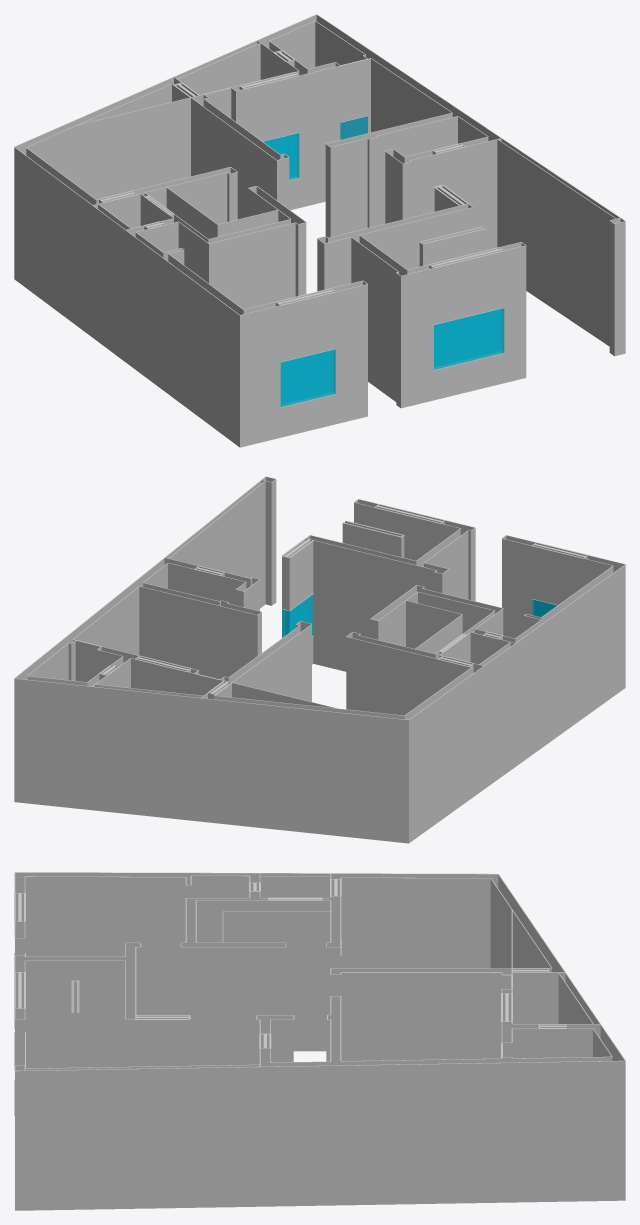
File: f15921d8-dd75-4cbd-b719-437ed7acb86d_no_roof.glb
3 views of the same model, one above another, from view 1: azimuth 30°, elevation 25°; view 2: azimuth 150°, elevation 25°; view 3: azimuth 270°, elevation 25° (orthographic). The views are drawn at different scales.
Parts seen in each view (by area): view 1: walls, windows; view 2: walls, windows; view 3: walls.
Boxes of the visible parts, x1=… form: walls: x1=14, y1=14, x2=625, y2=447; windows: x1=263, y1=116, x2=504, y2=407; walls: x1=14, y1=476, x2=625, y2=843; windows: x1=282, y1=594, x2=557, y2=637; walls: x1=14, y1=872, x2=625, y2=1210.
Bounding box in the file's own units: 10.69 × 3.5 × 13.89.
